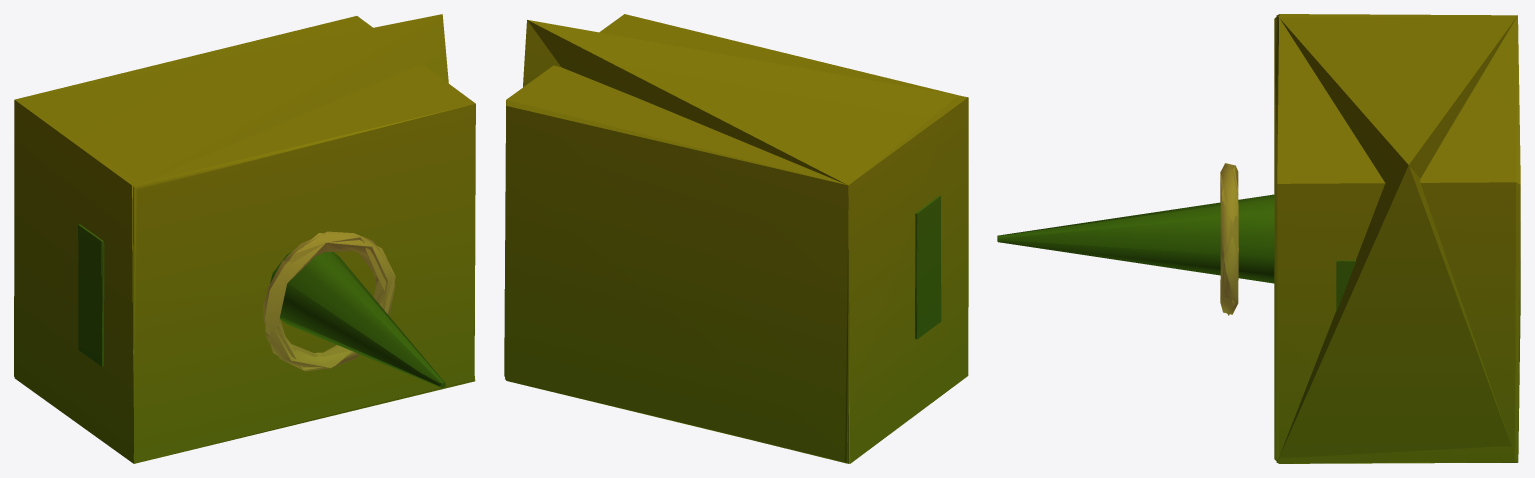
File: RCLModule_heavy_artillery_martian_iron_rust_sponsons_LODs.fbx
3 views of the same model, side by side, from view 1: azimuth 30°, elevation 25°; view 2: azimuth 150°, elevation 25°; view 3: azimuth 270°, elevation 25° (orthographic).
Visible parts, largest first — view 1: LOD1_RCLModule_heavy_artillery_martian_iron_rust_sponsons_Ba (×3), LOD2_RCLModule_heavy_artillery_martian_iron_rust_sponsons_Ba (×3); view 2: LOD1_RCLModule_heavy_artillery_martian_iron_rust_sponsons_Ba (×2), LOD2_RCLModule_heavy_artillery_martian_iron_rust_sponsons_Ba; view 3: LOD1_RCLModule_heavy_artillery_martian_iron_rust_sponsons_Ba (×3), LOD2_RCLModule_heavy_artillery_martian_iron_rust_sponsons_Ba (×3).
Part boxes in pixels (x1,y1,x2,y2): LOD1_RCLModule_heavy_artillery_martian_iron_rust_sponsons_Ba (×3): (14,16,475,463); LOD2_RCLModule_heavy_artillery_martian_iron_rust_sponsons_Ba (×3): (14,14,475,456); LOD1_RCLModule_heavy_artillery_martian_iron_rust_sponsons_Ba (×2): (504,14,968,463); LOD2_RCLModule_heavy_artillery_martian_iron_rust_sponsons_Ba: (505,20,968,463); LOD1_RCLModule_heavy_artillery_martian_iron_rust_sponsons_Ba (×3): (997,14,1520,463); LOD2_RCLModule_heavy_artillery_martian_iron_rust_sponsons_Ba (×3): (997,15,1517,462).
Bounding box in the file's own units: 39.13 × 30.99 × 46.72.
